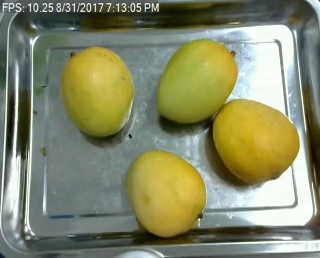Mango: (210, 99, 299, 184), (155, 37, 240, 125), (60, 44, 138, 139), (129, 149, 206, 236)
